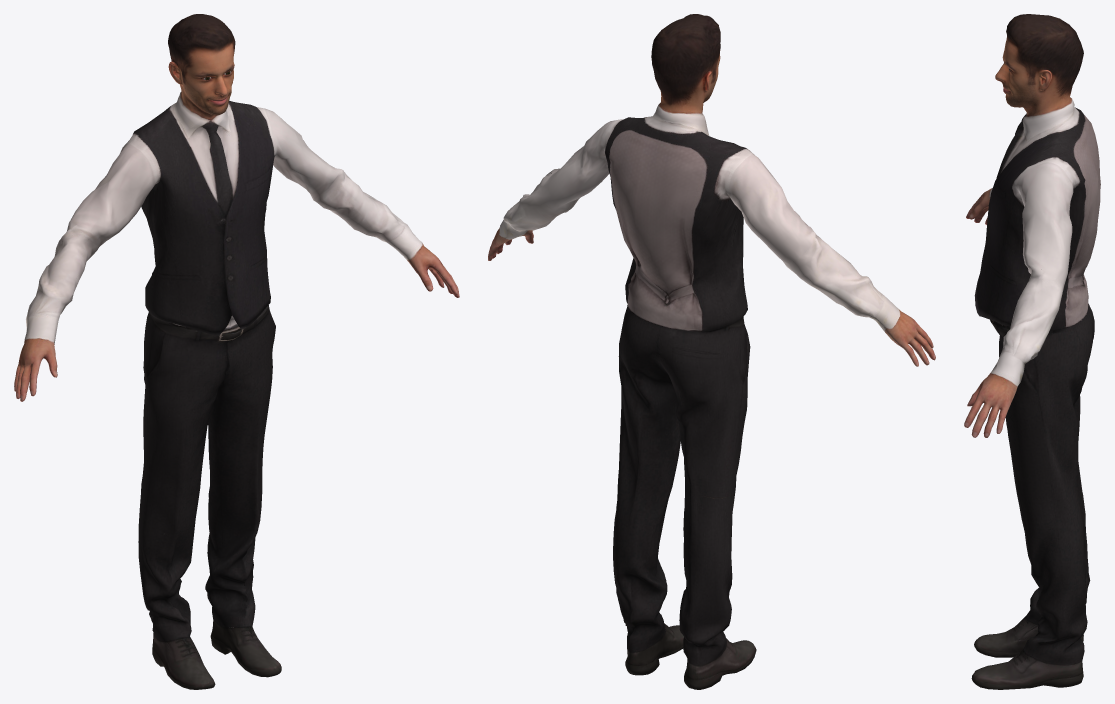
File: People.gltf
3 views of the same model, side by side, from view 1: azimuth 30°, elevation 25°; view 2: azimuth 150°, elevation 25°; view 3: azimuth 270°, elevation 25° (orthographic).
Parts seen in each view (by area): view 1: rp_eric_rigged_001_geo; view 2: rp_eric_rigged_001_geo; view 3: rp_eric_rigged_001_geo.
Boxes of the visible parts, x1,y1,x2,y2 form: rp_eric_rigged_001_geo: (14, 14, 459, 689); rp_eric_rigged_001_geo: (488, 14, 935, 689); rp_eric_rigged_001_geo: (964, 14, 1100, 689).
Bounding box in the file's own units: 1.32 × 1.86 × 0.356.
Materials: 1 (1 with a texture image).
